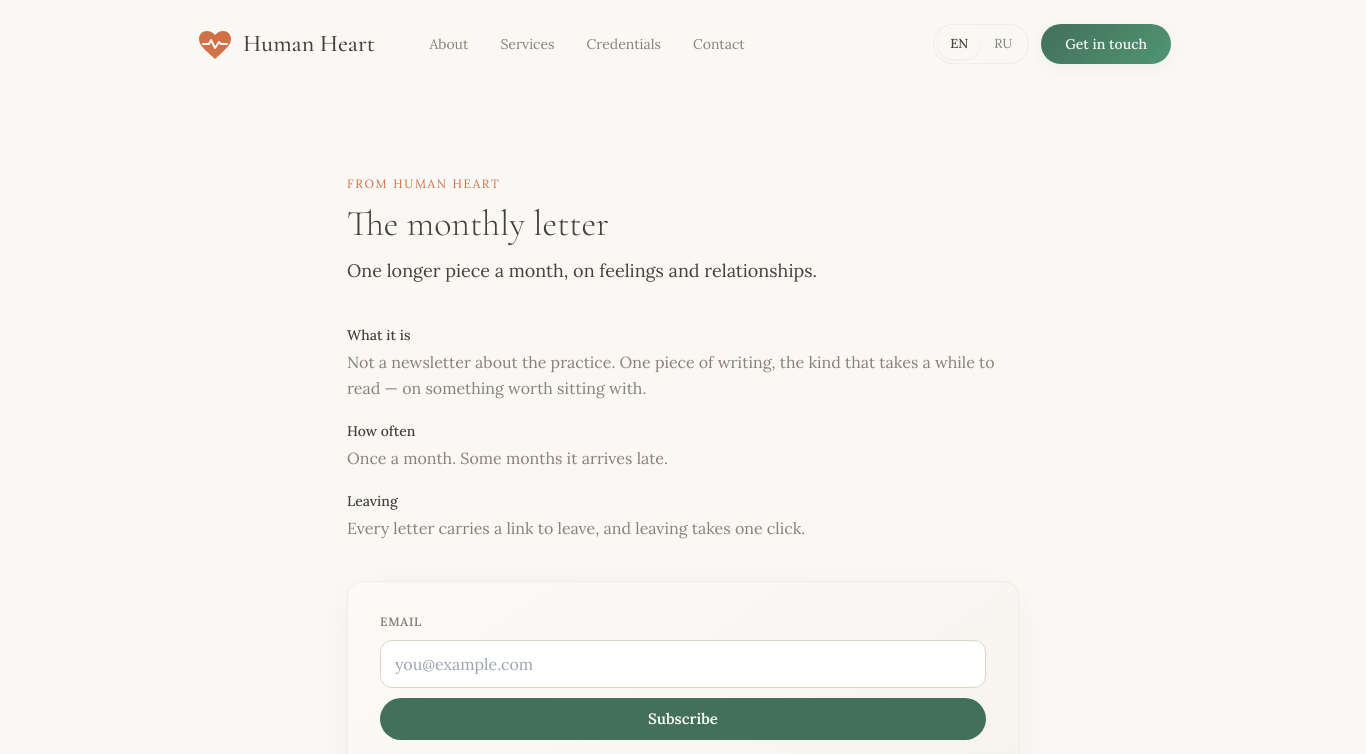
subscribing from the page › replaces the form with what happens next, rather than saying nothing
Step 1. Type "reader@example.com" into the field labelled "Email" → (683, 664), box [380,640,986,688]
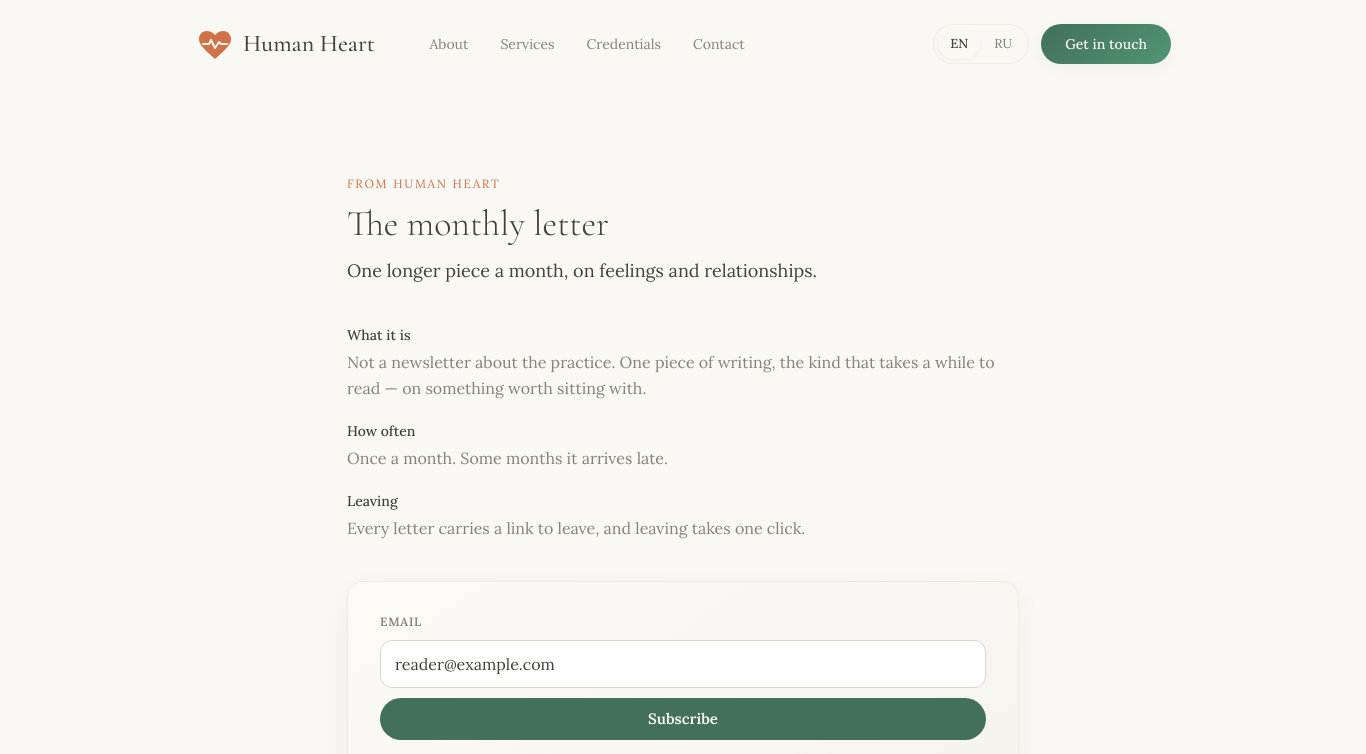
Step 2. Click the button "Subscribe" → click(683, 719), box [380,698,986,740]
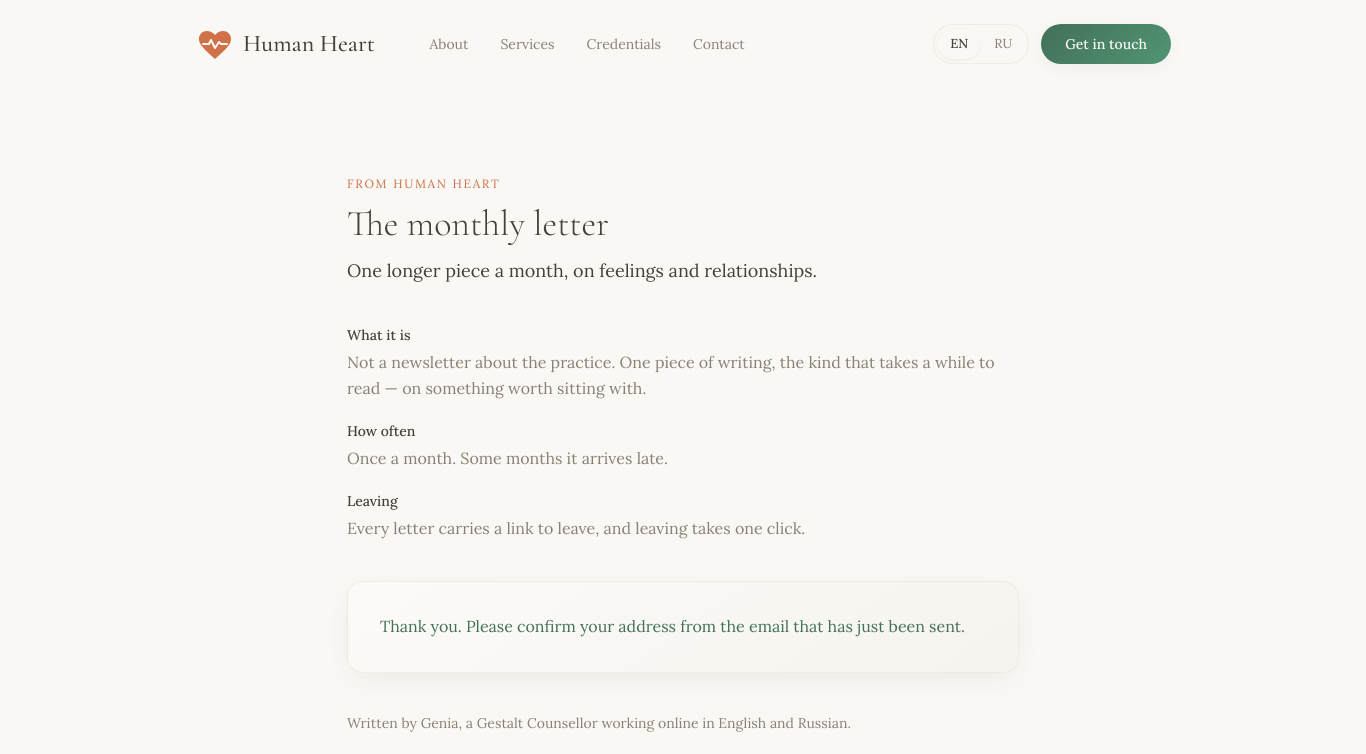
Expected: the message reads "Thank you. Please confirm your address from the email that has just been sent.", [380,616,965,636]
Expected: the button "Subscribe" is gone
